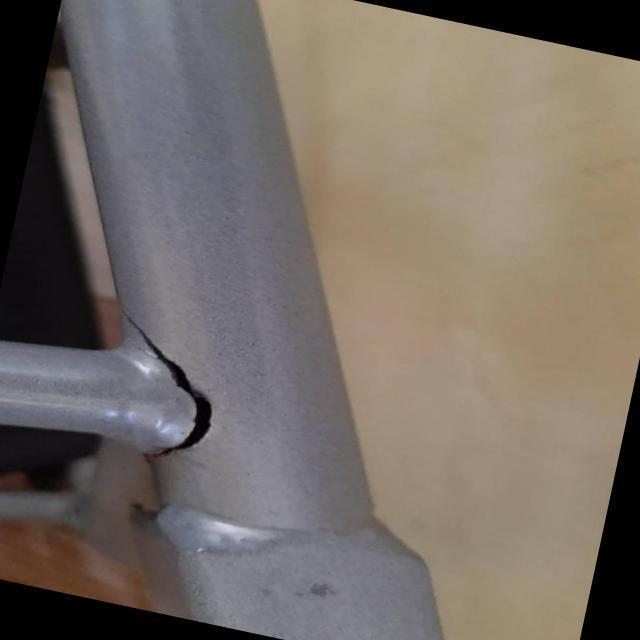defect: (113, 306, 218, 467)
